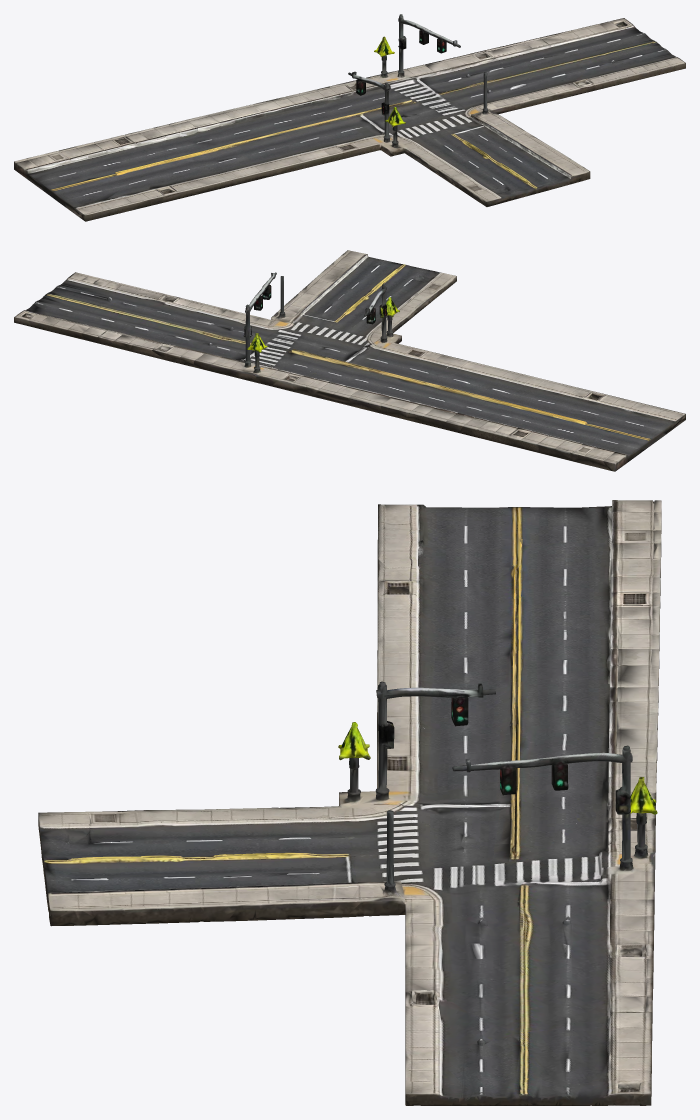
File: city-intersection.glb
3 views of the same model, one above another, from view 1: azimuth 30°, elevation 25°; view 2: azimuth 150°, elevation 25°; view 3: azimuth 270°, elevation 25° (orthographic). The views are drawn at different scales.
Visible parts, largest first — view 1: tripo_node_9ba6e863-c840-40f1-9088-945f9c1b980c; view 2: tripo_node_9ba6e863-c840-40f1-9088-945f9c1b980c; view 3: tripo_node_9ba6e863-c840-40f1-9088-945f9c1b980c.
Boxes of the visible parts, left/top/right/bottom form: tripo_node_9ba6e863-c840-40f1-9088-945f9c1b980c: left=14, top=14, right=685, bottom=221; tripo_node_9ba6e863-c840-40f1-9088-945f9c1b980c: left=14, top=250, right=685, bottom=471; tripo_node_9ba6e863-c840-40f1-9088-945f9c1b980c: left=38, top=500, right=661, bottom=1105.
Size of the model in its own units: 0.9799 by 0.109 by 0.4382.
Materials: 1 (1 with a texture image).
